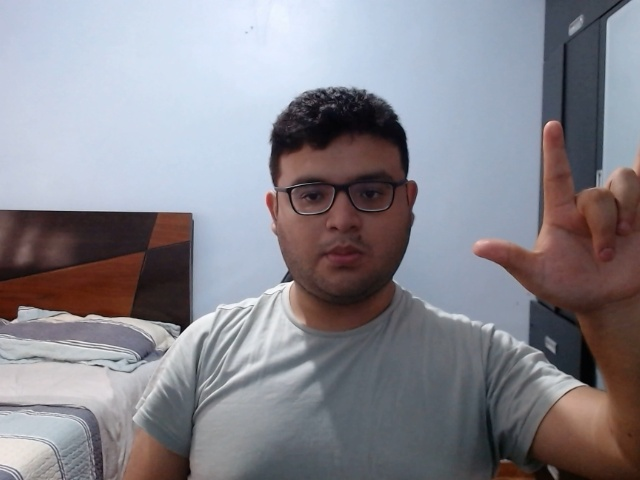I love you: (469, 114, 640, 320)
